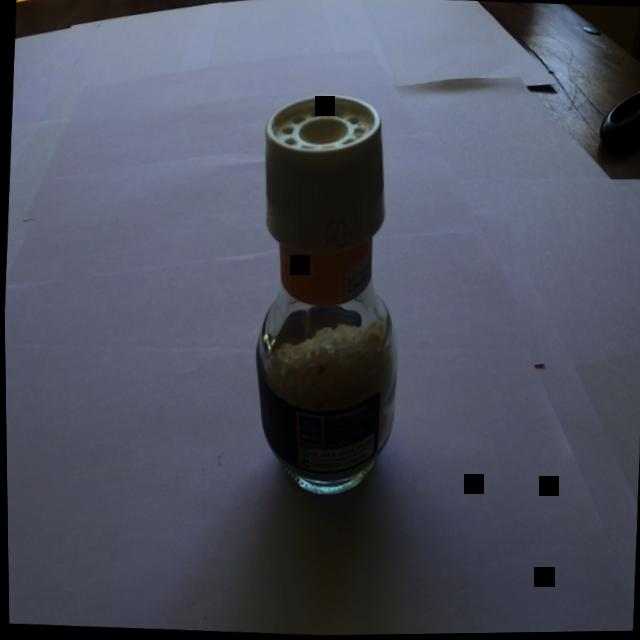Salt: (229, 67, 428, 512)
